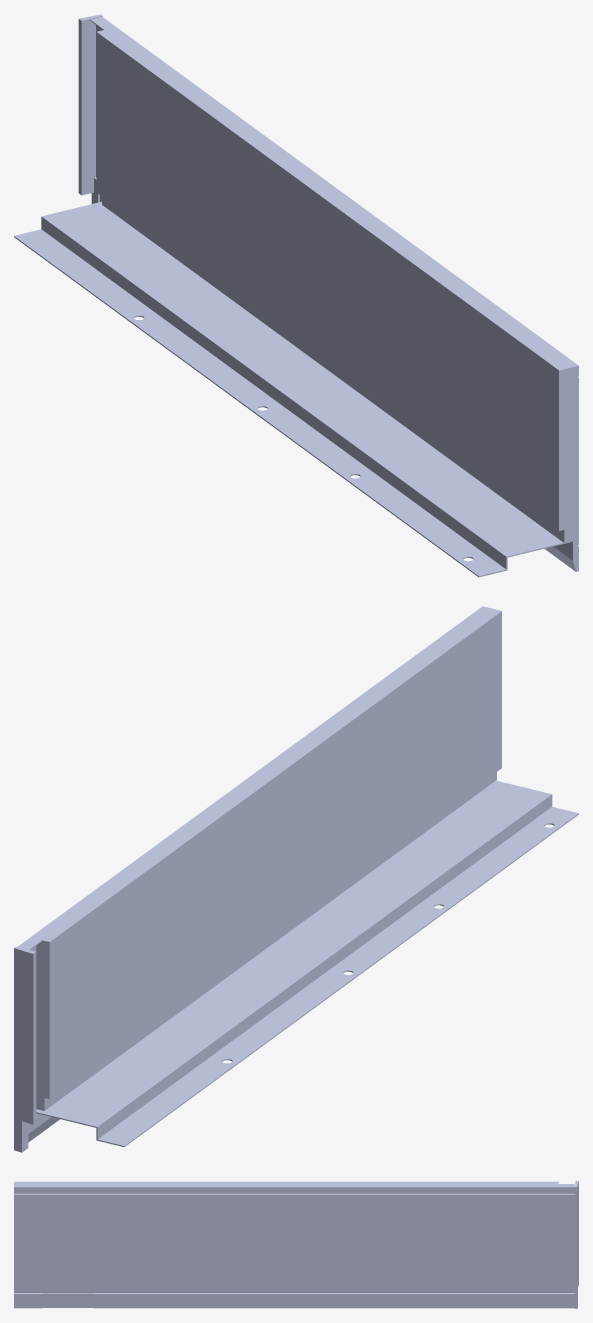
The model's file is lg-kava-K550-m.glb.
The picture shows the model from 3 angles, top to bottom: view 1: azimuth 30°, elevation 25°; view 2: azimuth 150°, elevation 25°; view 3: azimuth 270°, elevation 25°; orthographic projection. The views are drawn at different scales.
Visible parts, largest first — view 1: 45068036; view 2: 45068036; view 3: 45068036.
Part boxes in pixels (box(x1,y1,x2,y2)): 45068036: box(14, 14, 578, 577); 45068036: box(14, 606, 578, 1152); 45068036: box(14, 1181, 578, 1308).
Size of the model in its own units: 0.0653 by 0.1292 by 0.5435.
